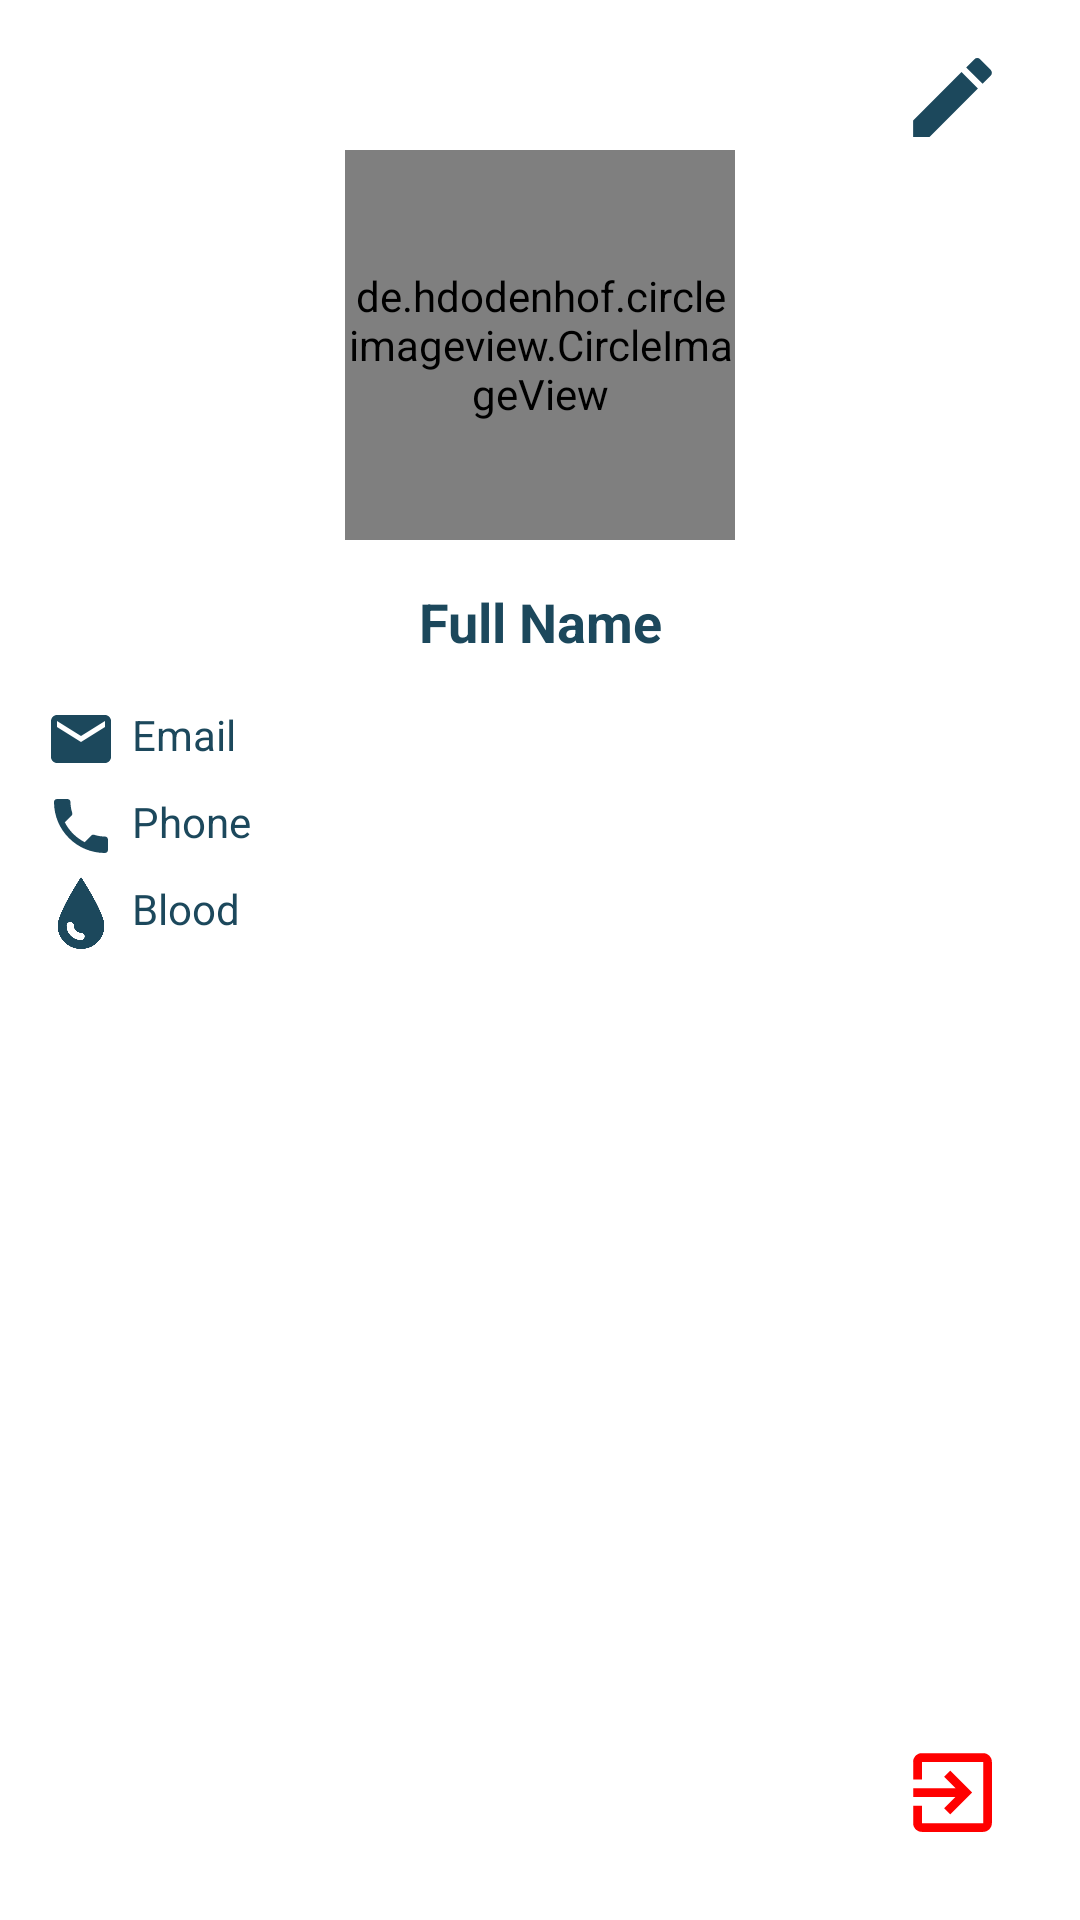

Screen size 1080 × 1920. Icon name, then its center in pixels as [x,y]:
edit: [952,97]
signout: [952,1792]
